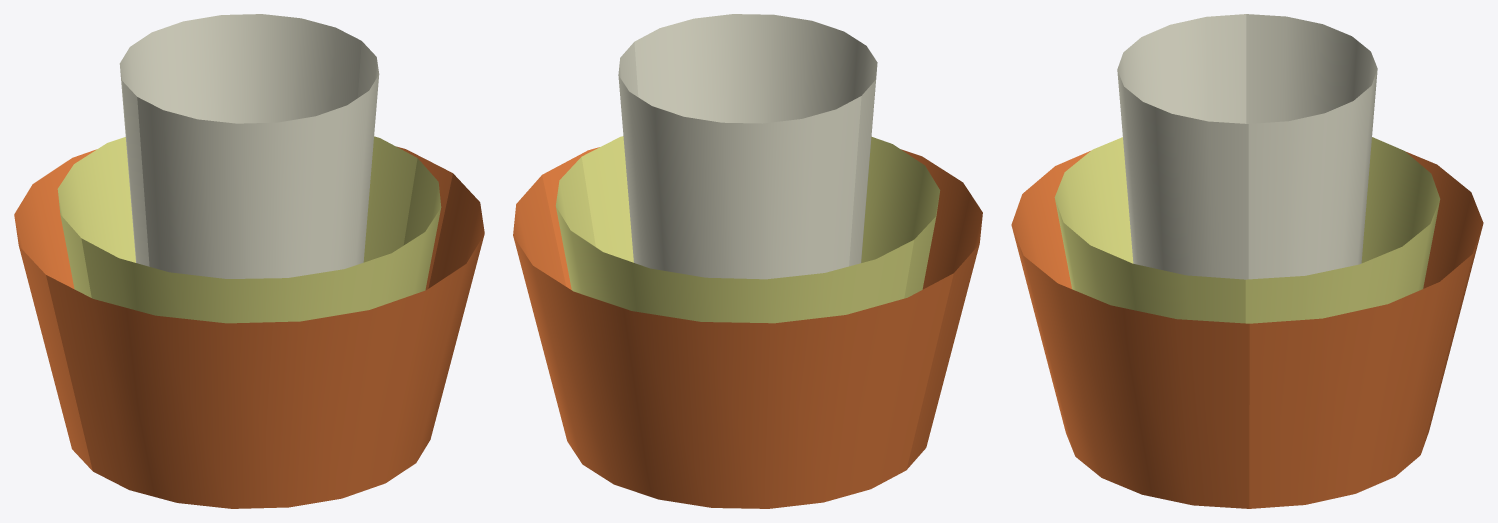
The model's file is EFF_bakuhatu.dae.
The picture shows the model from 3 angles, left to right: view 1: azimuth 30°, elevation 25°; view 2: azimuth 150°, elevation 25°; view 3: azimuth 270°, elevation 25°; orthographic projection.
Parts seen in each view (by area): view 1: polySurface8_q00008, polySurface8_q00002, polySurface7_q00001, polySurface8_q00017, polySurface8_q00005, polySurface8_q00011, polySurface7_q00004, polySurface7_q00007, polySurface7_q00010, polySurface8_q00014, polySurface7_q00013, polySurface7_q00016; view 2: polySurface7_q00007, polySurface7_q00001, polySurface8_q00002, polySurface7_q00016, polySurface7_q00004, polySurface7_q00010, polySurface8_q00005, polySurface8_q00008, polySurface8_q00011, polySurface7_q00013, polySurface8_q00014, polySurface8_q00017; view 3: polySurface8_q00008, polySurface7_q00007, polySurface8_q00002, polySurface7_q00001, polySurface7_q00004, polySurface8_q00005, polySurface7_q00016, polySurface8_q00017, polySurface7_q00010, polySurface8_q00011, polySurface7_q00013, polySurface8_q00014.
Part boxes in pixels (x1,y1,x2,y2): polySurface8_q00008: [46, 173, 484, 508]; polySurface8_q00002: [137, 41, 379, 278]; polySurface7_q00001: [119, 14, 361, 266]; polySurface8_q00017: [47, 183, 483, 508]; polySurface8_q00005: [81, 158, 441, 323]; polySurface8_q00011: [138, 44, 378, 278]; polySurface7_q00004: [57, 136, 417, 297]; polySurface7_q00007: [14, 146, 452, 470]; polySurface7_q00010: [120, 14, 361, 265]; polySurface8_q00014: [81, 163, 440, 322]; polySurface7_q00013: [58, 136, 416, 295]; polySurface7_q00016: [15, 147, 452, 468]; polySurface7_q00007: [513, 175, 953, 508]; polySurface7_q00001: [618, 42, 861, 279]; polySurface8_q00002: [634, 14, 877, 266]; polySurface7_q00016: [514, 176, 948, 508]; polySurface7_q00004: [555, 157, 914, 323]; polySurface7_q00010: [619, 42, 859, 279]; polySurface8_q00005: [581, 136, 940, 298]; polySurface8_q00008: [542, 147, 982, 469]; polySurface8_q00011: [635, 14, 877, 265]; polySurface7_q00013: [556, 158, 910, 322]; polySurface8_q00014: [582, 137, 939, 297]; polySurface8_q00017: [547, 148, 982, 464]; polySurface8_q00008: [1011, 151, 1249, 508]; polySurface7_q00007: [1249, 151, 1483, 508]; polySurface8_q00002: [1117, 14, 1248, 279]; polySurface7_q00001: [1246, 14, 1377, 279]; polySurface7_q00004: [1245, 137, 1440, 323]; polySurface8_q00005: [1054, 137, 1245, 323]; polySurface7_q00016: [1249, 152, 1482, 507]; polySurface8_q00017: [1012, 154, 1249, 508]; polySurface7_q00010: [1246, 15, 1376, 278]; polySurface8_q00011: [1117, 14, 1248, 278]; polySurface7_q00013: [1245, 137, 1439, 323]; polySurface8_q00014: [1056, 138, 1241, 322].
Bounding box in the file's own units: 0.1883 × 0.1598 × 0.1883.
3 materials, 3 textured.
